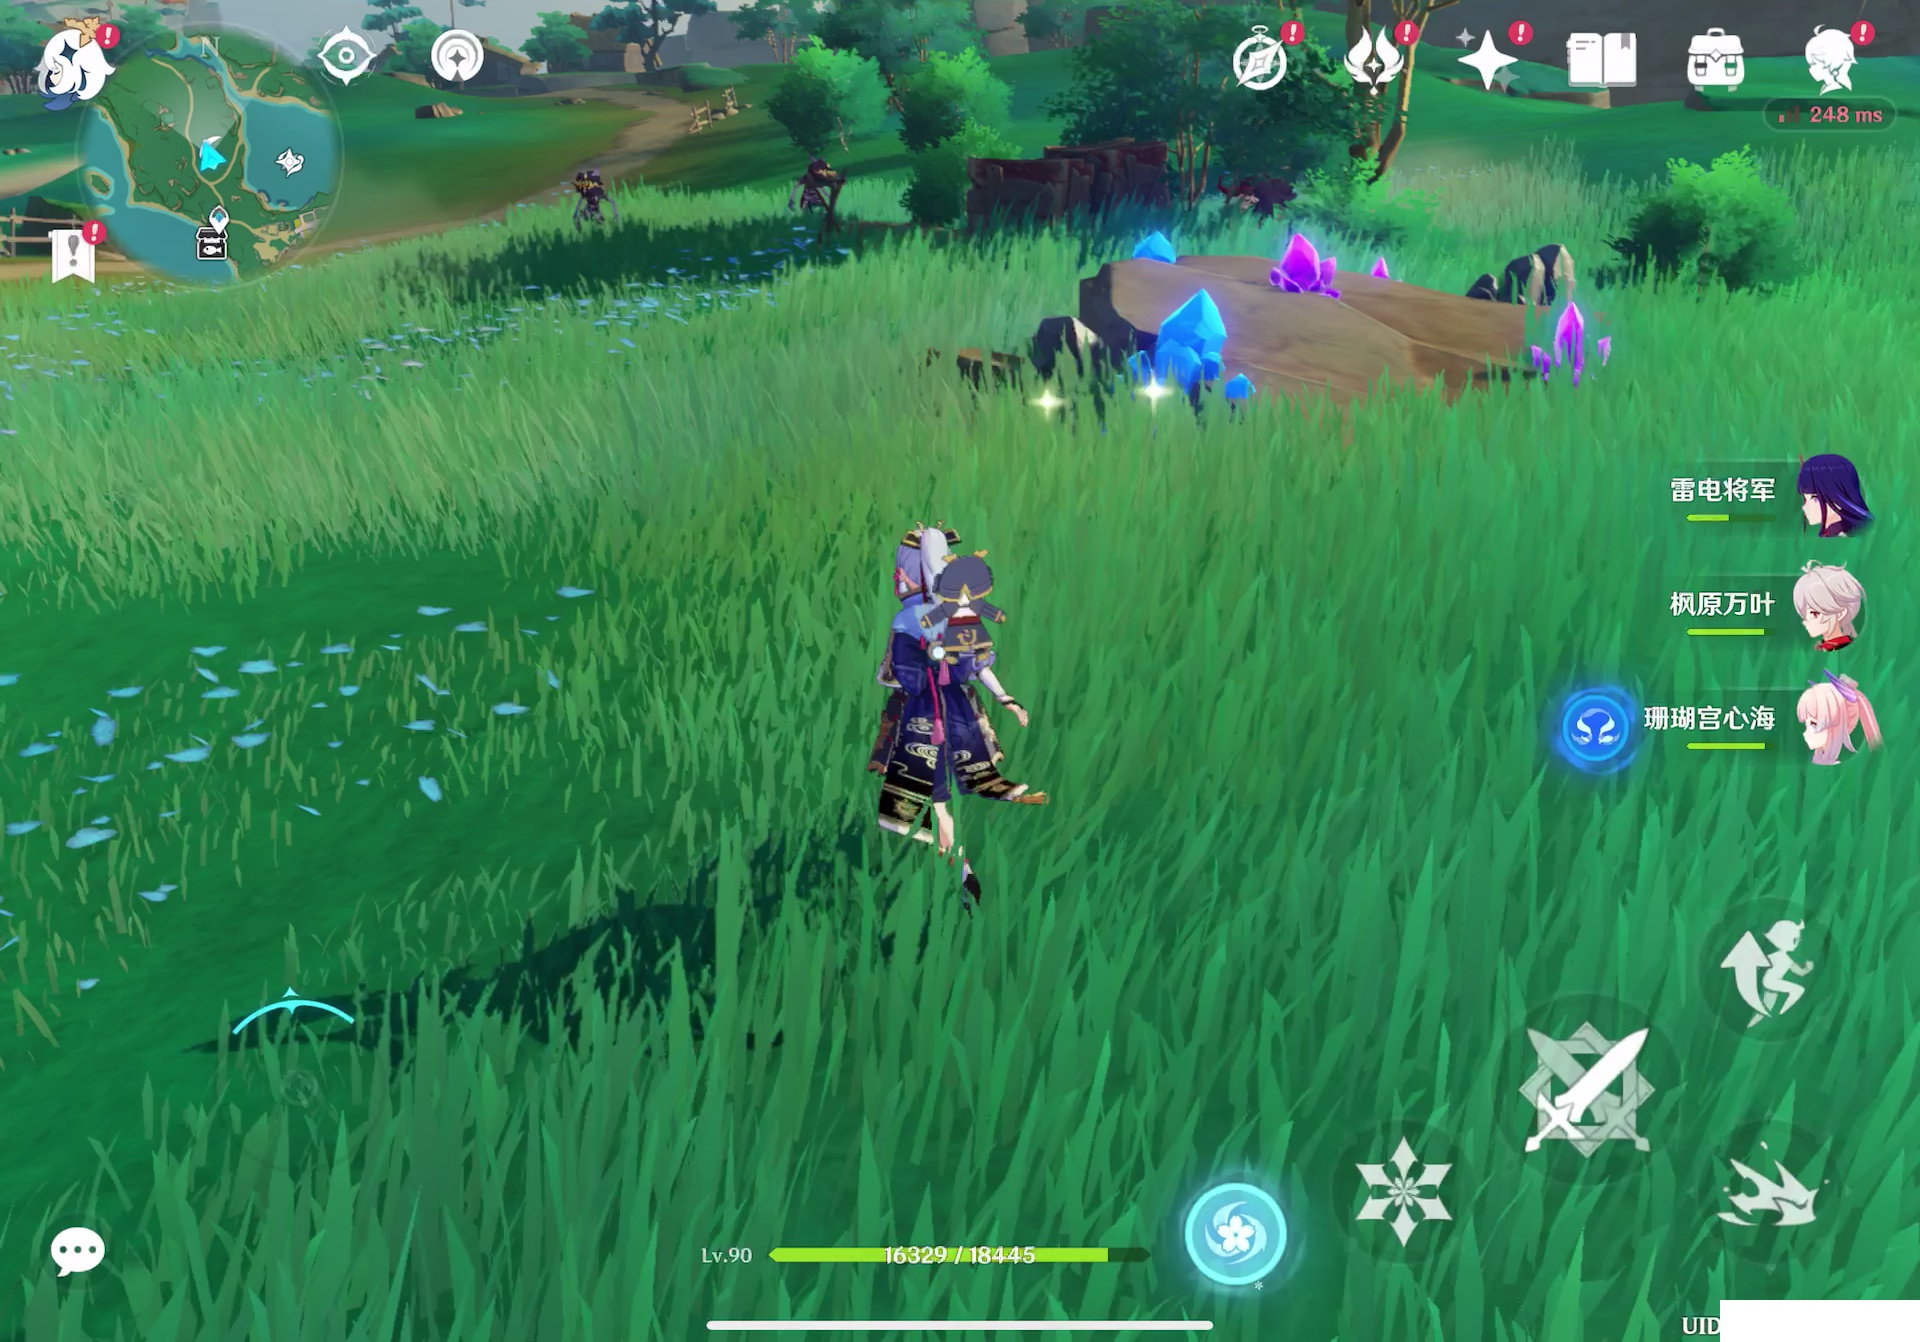丘丘人: (566, 172, 616, 239), (786, 155, 835, 220)
白铁矿石: (1011, 305, 1119, 408), (1474, 233, 1587, 300)
神里绫龟: (856, 528, 1064, 918)
紫矿石: (1519, 300, 1625, 404), (1266, 230, 1352, 303)
蓝矿石: (1139, 286, 1253, 420), (1125, 229, 1191, 276)
